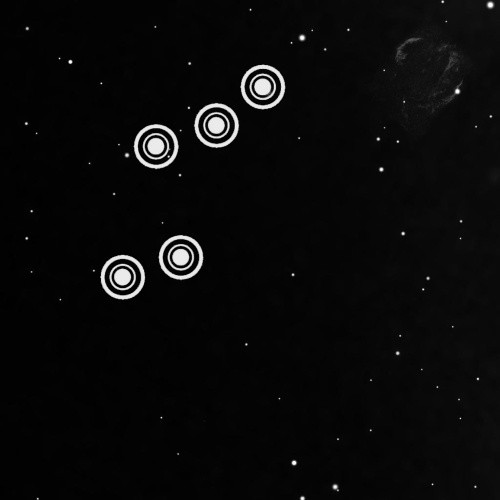lyra: (96, 45, 288, 313)
